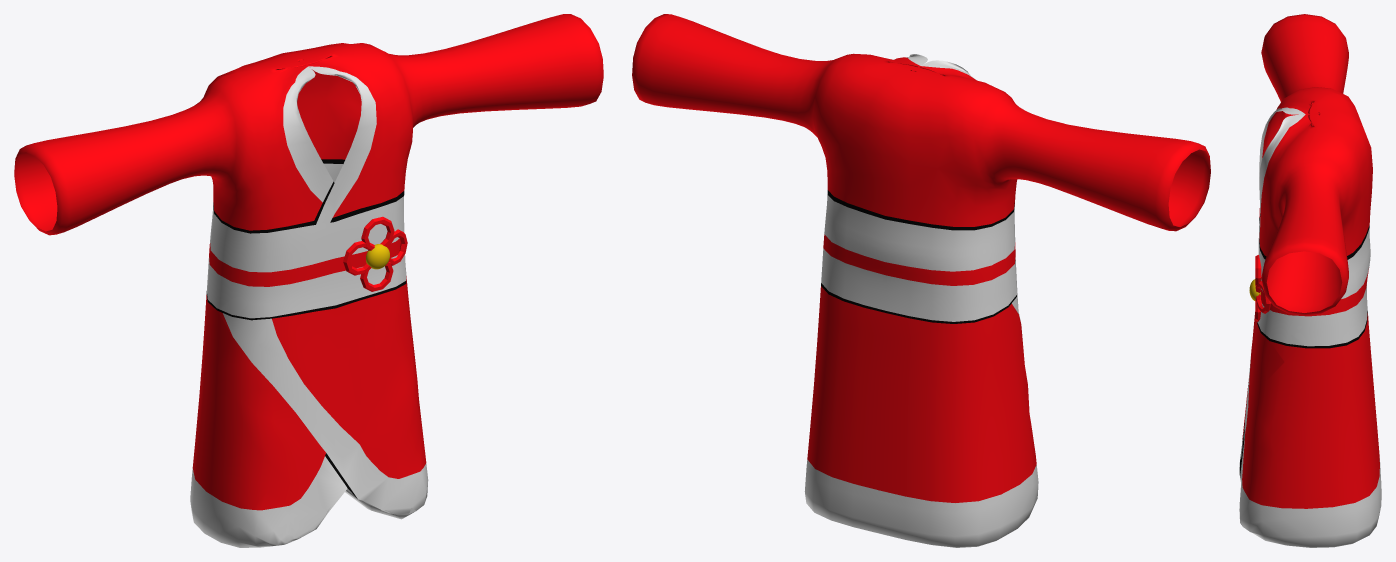
Rendered from keiko'_dress.gltf.
3 views of the same model, side by side, from view 1: azimuth 30°, elevation 25°; view 2: azimuth 150°, elevation 25°; view 3: azimuth 270°, elevation 25° (orthographic). The views are drawn at different scales.
Visible parts, largest first — view 1: Dress; view 2: Dress; view 3: Dress.
Part boxes in pixels (bbox=[...]): Dress: bbox=[14, 14, 603, 547]; Dress: bbox=[632, 14, 1210, 547]; Dress: bbox=[1239, 14, 1381, 547].
Size of the model in its own units: 1.12 by 0.8813 by 0.2885.
